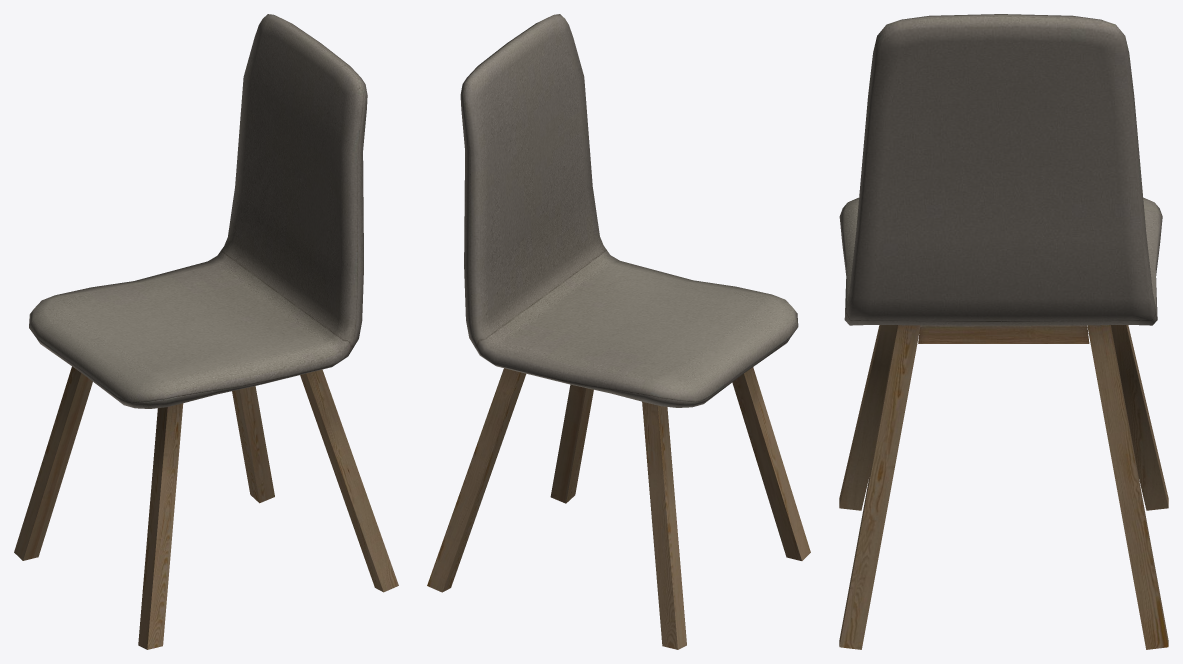
The model's file is chair.glb.
The picture shows the model from 3 angles, left to right: view 1: azimuth 30°, elevation 25°; view 2: azimuth 150°, elevation 25°; view 3: azimuth 270°, elevation 25°; orthographic projection. The views are drawn at different scales.
Parts seen in each view (by area): view 1: lp; view 2: lp; view 3: lp.
Boxes of the visible parts, x1,y1,x2,y2 form: lp: (14,14,398,649); lp: (427,14,810,649); lp: (839,14,1168,649).
Bounding box in the file's own units: 0.4719 × 0.8967 × 0.4279.
Materials: 1 (1 with a texture image).
